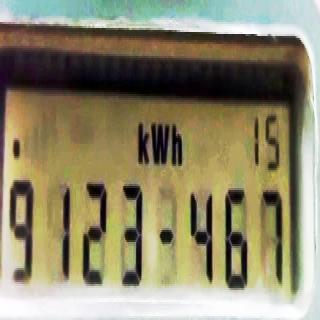-: (158, 222, 174, 250), (12, 136, 21, 162)
1: (60, 182, 72, 285), (253, 108, 261, 174)
2: (79, 172, 110, 294)
3: (120, 176, 144, 294)
4: (188, 182, 216, 292)
5: (263, 107, 282, 181)
6: (222, 179, 249, 296)
7: (259, 182, 287, 290)
9: (6, 172, 36, 292)
